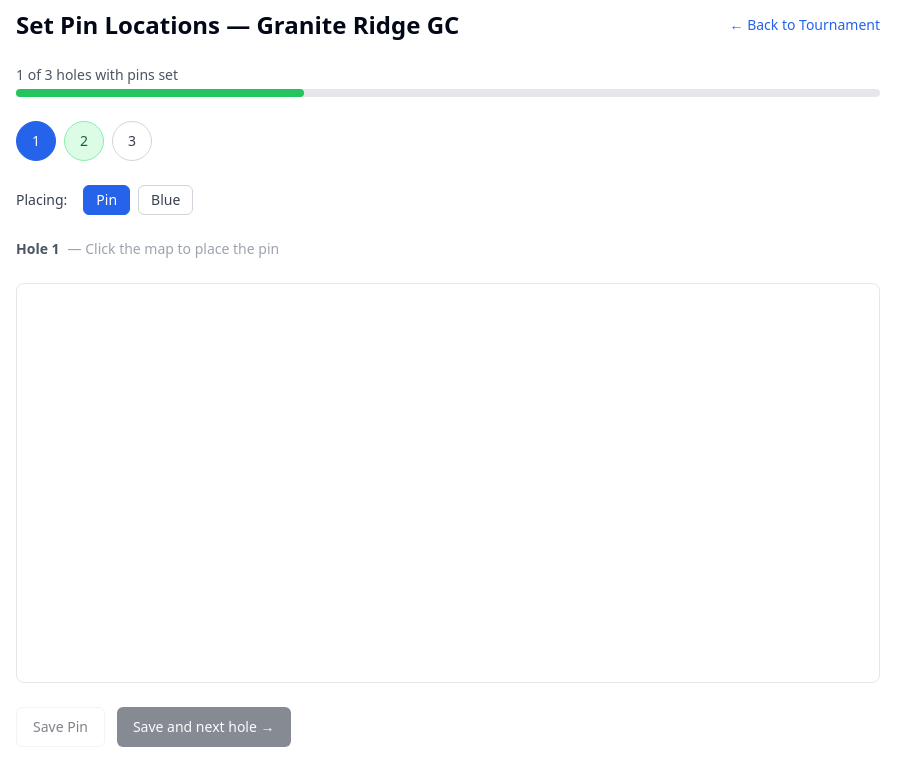
PinPlacementMap › disables tee button when hole has no tees
// Navigate to hole 2 which has no tees
Click the button named "hole 2". click: click(84, 141)
box: [64,121,104,161]
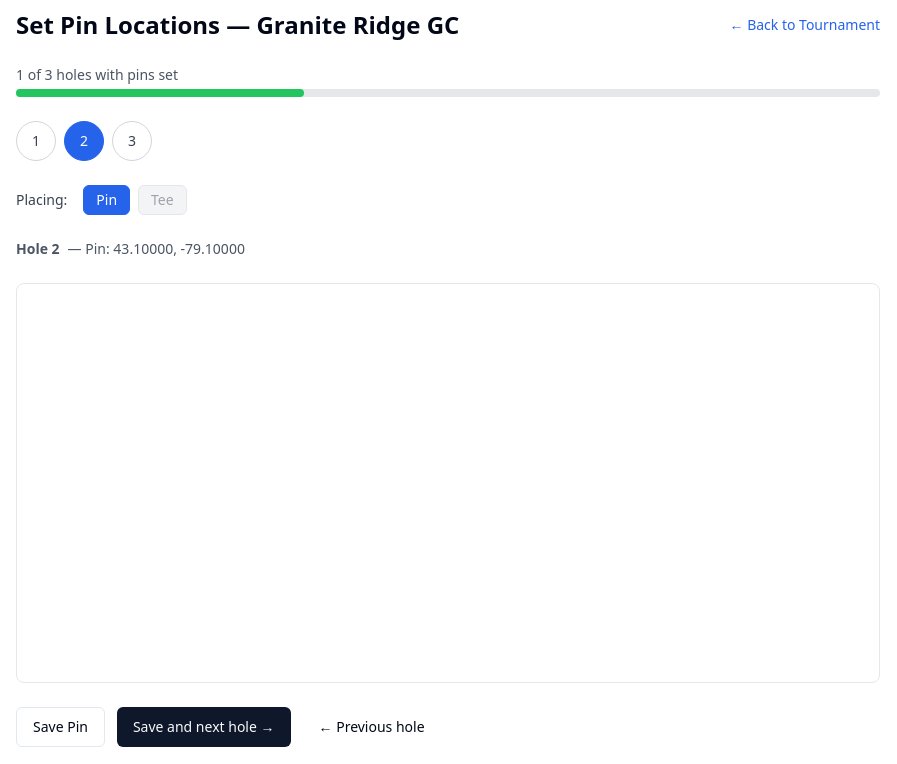
Result: the button "Tee" is disabled at [138,185,187,215]
